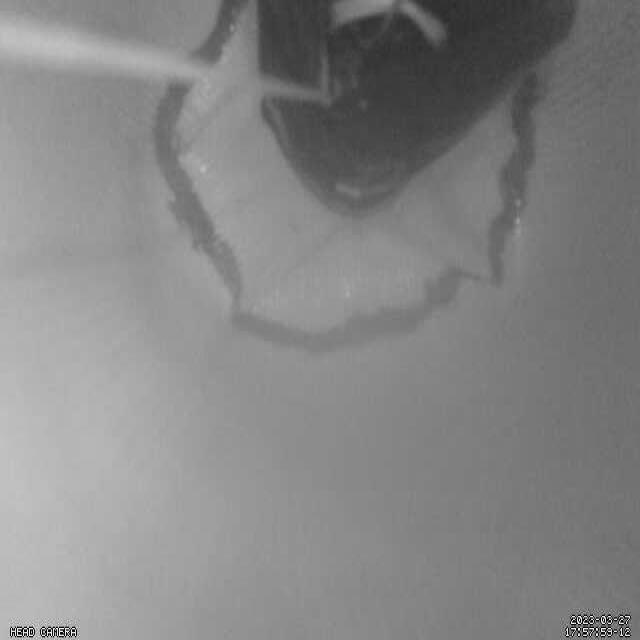red-circle: (151, 0, 544, 349)
